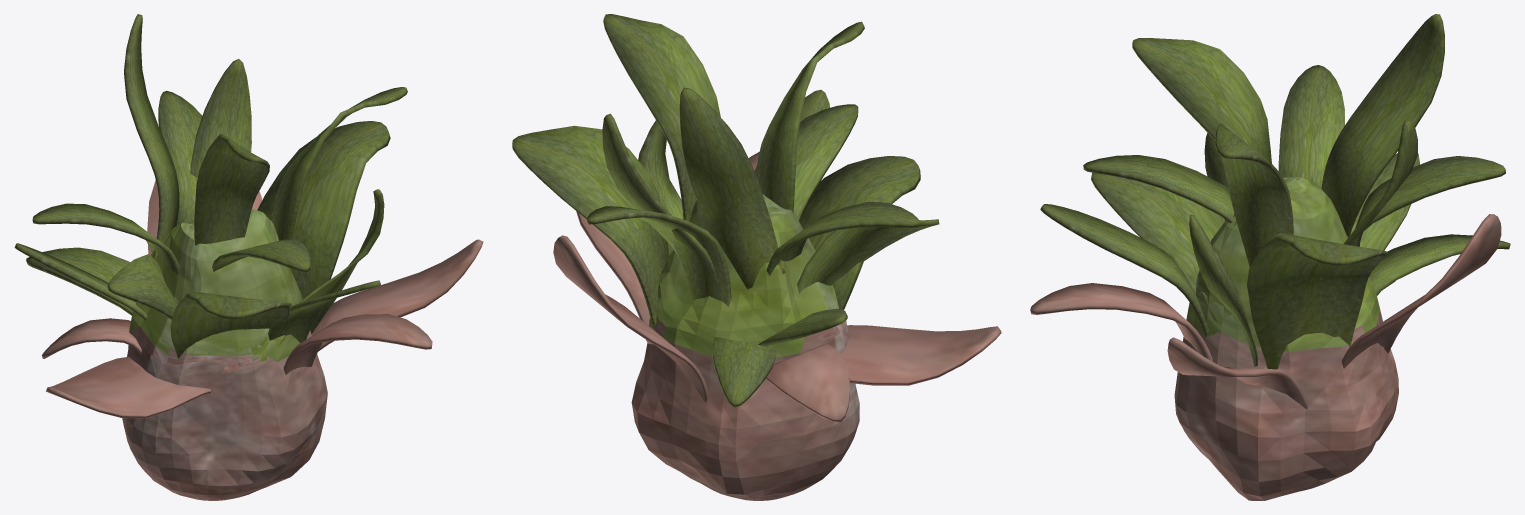
Rendered from crown_2.dae.
The picture shows the model from 3 angles, left to right: view 1: azimuth 30°, elevation 25°; view 2: azimuth 150°, elevation 25°; view 3: azimuth 270°, elevation 25°; orthographic projection. The views are drawn at different scales.
Parts seen in each view (by area): view 1: Sphere.002, Sphere.001, calyx4_001.001, calyx4.001, calyx2.003, calyx2.002, calyx2.001, calyx4.003, calyx2.004, calyx3_001.003, calyx3_002, calyx4_001 (+9 smaller); view 2: Sphere.002, Sphere.001, calyx2.001, calyx4_001.001, calyx4_001, calyx2.003, calyx4.003, calyx4.001, calyx3.003, calyx3_002, calyx3_001.001, calyx4.004 (+8 smaller); view 3: Sphere.002, calyx4_001.001, calyx2.001, calyx4.001, Sphere.001, calyx4.003, calyx3.001, calyx4_001, calyx1.003, calyx3_001.001, calyx3_002, calyx3_001.003 (+7 smaller).
Boxes of the visible parts, <box> form: Sphere.002: <box>122,327,327,500</box>; Sphere.001: <box>129,208,302,361</box>; calyx4_001.001: <box>257,121,390,299</box>; calyx4.001: <box>194,133,269,245</box>; calyx2.003: <box>46,357,210,418</box>; calyx2.002: <box>311,239,483,351</box>; calyx2.001: <box>124,14,179,259</box>; calyx4.003: <box>170,291,291,358</box>; calyx2.004: <box>190,59,251,177</box>; calyx3_001.003: <box>283,314,432,374</box>; calyx3_002: <box>158,90,202,225</box>; calyx4_001: <box>271,87,407,240</box>; Sphere.002: <box>631,319,859,500</box>; Sphere.001: <box>649,194,838,357</box>; calyx2.001: <box>679,87,785,289</box>; calyx4_001.001: <box>512,125,669,329</box>; calyx4_001: <box>603,14,720,221</box>; calyx2.003: <box>840,325,1001,385</box>; calyx4.003: <box>799,156,920,309</box>; calyx4.001: <box>756,21,864,212</box>; calyx3.003: <box>765,344,849,422</box>; calyx3_002: <box>587,206,731,306</box>; calyx3_001.001: <box>793,104,858,221</box>; calyx4.004: <box>797,219,939,293</box>; Sphere.002: <box>1174,304,1398,500</box>; calyx4_001.001: <box>1247,233,1387,369</box>; calyx2.001: <box>1321,14,1444,237</box>; calyx4.001: <box>1132,38,1271,163</box>; Sphere.001: <box>1186,177,1379,351</box>; calyx4.003: <box>1091,172,1224,294</box>; calyx3.001: <box>1278,65,1344,188</box>; calyx4_001: <box>1215,123,1293,267</box>; calyx1.003: <box>1040,204,1208,337</box>; calyx3_001.001: <box>1083,155,1234,223</box>; calyx3_002: <box>1350,156,1505,246</box>; calyx3_001.003: <box>1030,283,1212,361</box>.
Bounding box in the file's own units: 0.1502 × 0.1393 × 0.1478.
3 materials, 3 textured.
